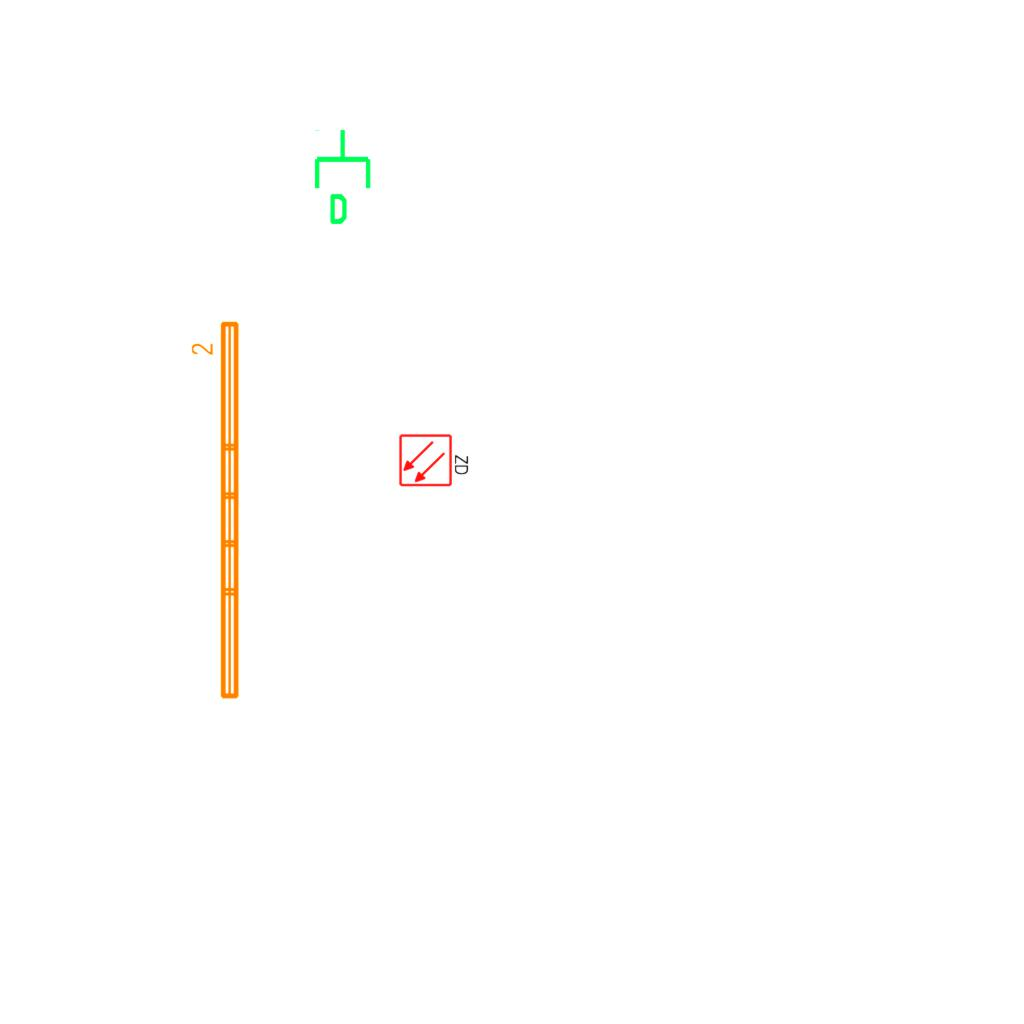Ambulanz_Pendelleuchte_LED: (189, 317, 245, 704)
Datenanschluss_einfach: (310, 127, 379, 227)
ZD_Melder_in_Zwischendecke_mit_Revisionsoeffnung_mind_40_x_40_cm: (398, 431, 472, 488)
